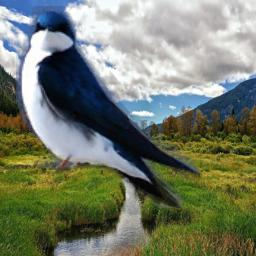Swallow: (16, 6, 200, 208)
